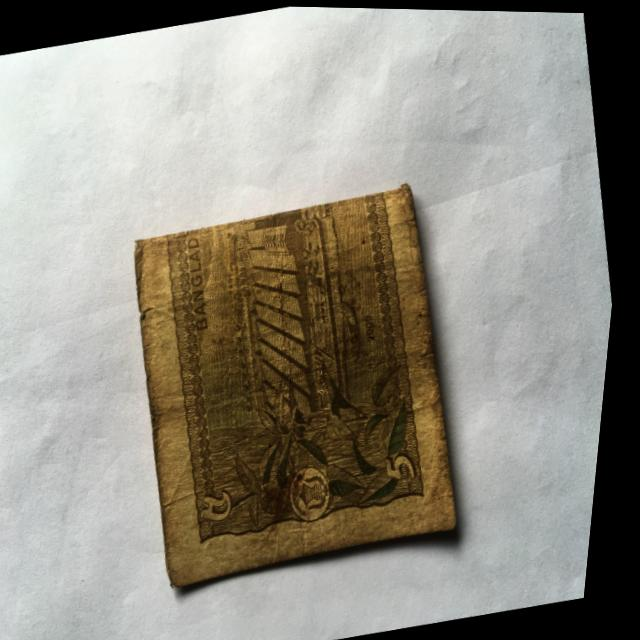Taka: (103, 172, 506, 599)
